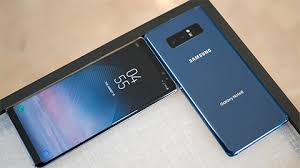samsung: (139, 2, 293, 157)
